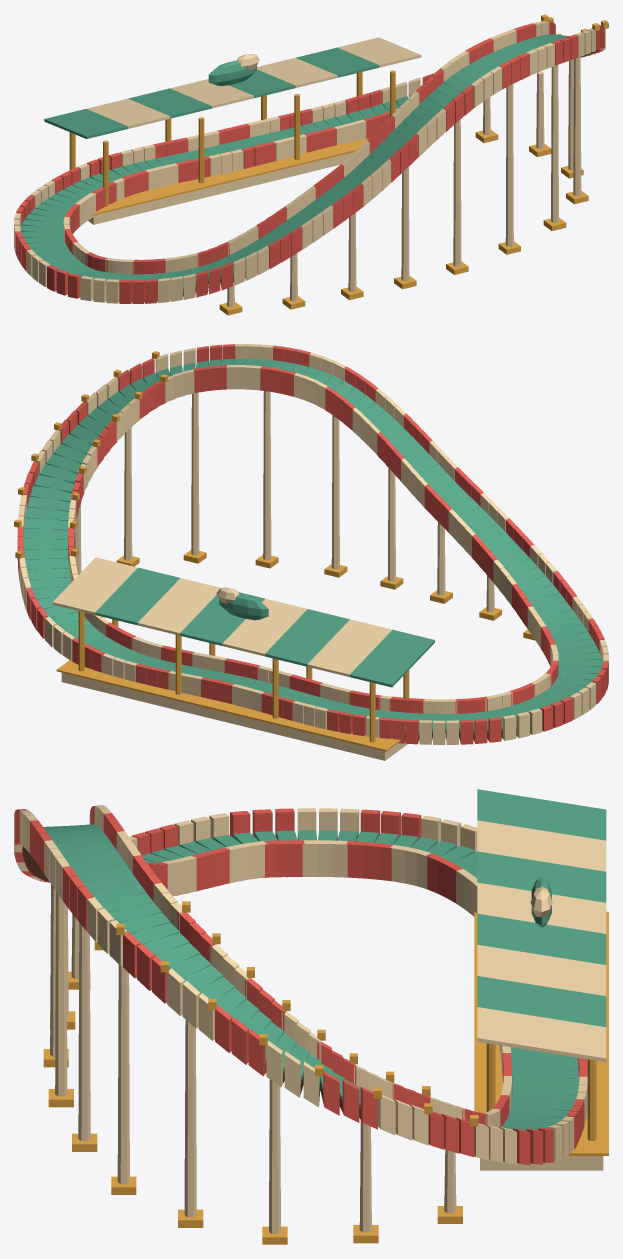
File: ParkParkFlumeTrack.obj
3 views of the same model, one above another, from view 1: azimuth 30°, elevation 25°; view 2: azimuth 150°, elevation 25°; view 3: azimuth 270°, elevation 25° (orthographic). The views are drawn at different scales.
Visible parts, largest first — view 1: ParkParkFlumeTrack; view 2: ParkParkFlumeTrack; view 3: ParkParkFlumeTrack.
Part boxes in pixels (x1,y1,x2,y2): ParkParkFlumeTrack: (14,14,608,315); ParkParkFlumeTrack: (14,344,608,760); ParkParkFlumeTrack: (14,789,608,1244).
Bounding box in the file's own units: 34.44 × 12.22 × 21.22.
